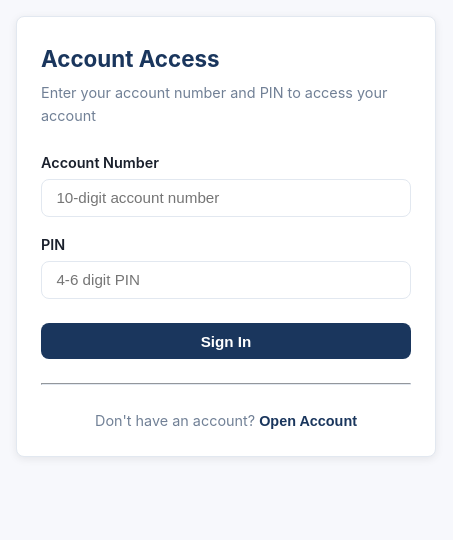
it: AccountLookup › shows error for invalid account number
Type "123" into the field labelled "Account Number" at (226, 198), box [41,179,411,217]
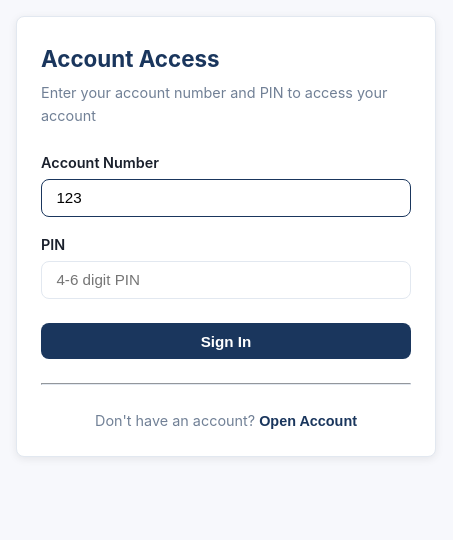
Type "1234" into the password field labelled "PIN" at (226, 280), box [41,261,411,299]
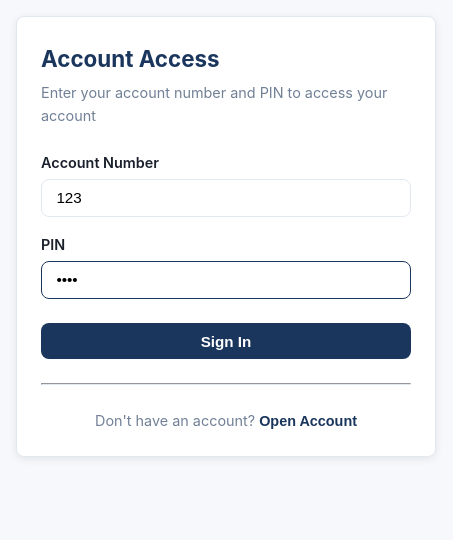
Click the button "Sign In" at (226, 341), box [41,323,411,359]
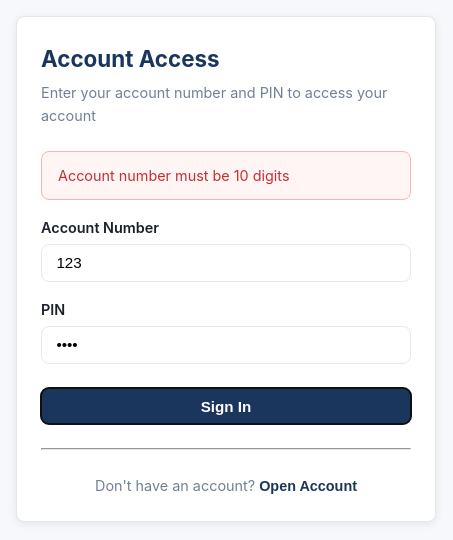
Expected: the text "Account number must be 10 digits" is shown, [41,151,411,200]
